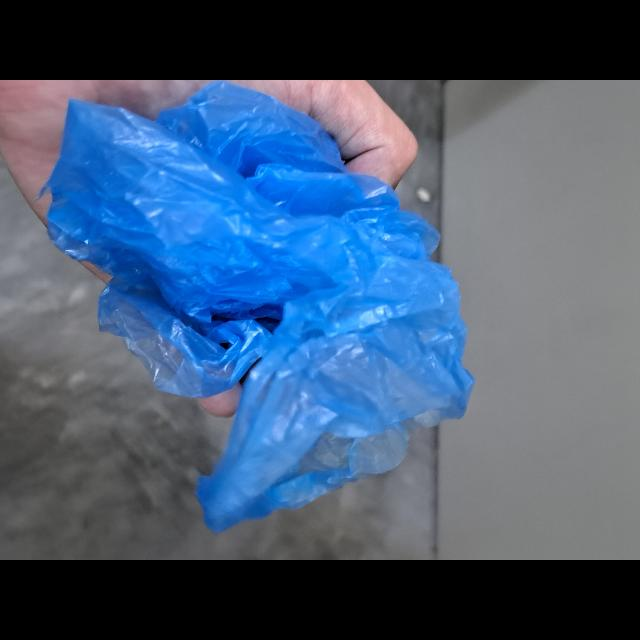sacola plástica: (49, 86, 474, 528)
